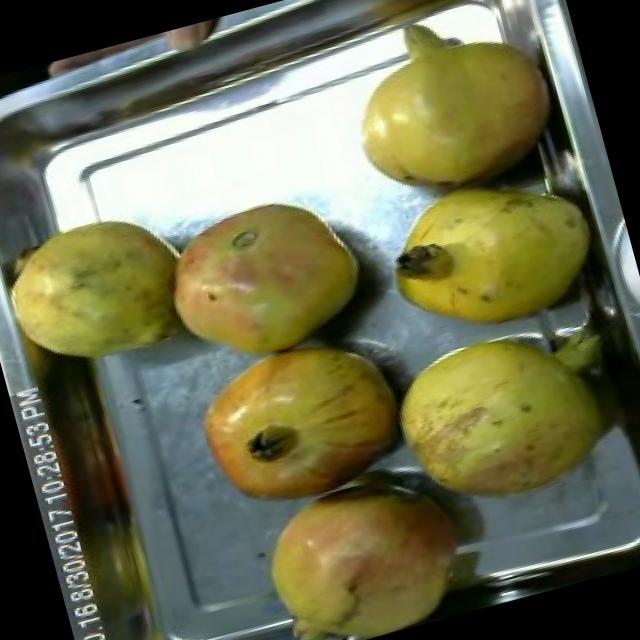fruit: (358, 292, 638, 541), (134, 161, 396, 391), (166, 312, 428, 540), (350, 142, 618, 362), (313, 0, 578, 222), (228, 438, 515, 640), (0, 186, 212, 389)
